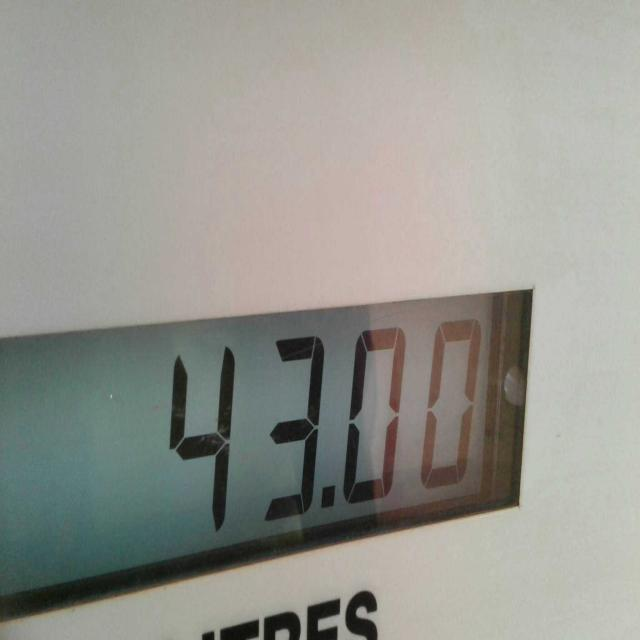.: (323, 488, 337, 511)
0: (344, 324, 404, 504), (427, 323, 481, 483)
3: (272, 336, 322, 511)
4: (172, 350, 237, 534)
